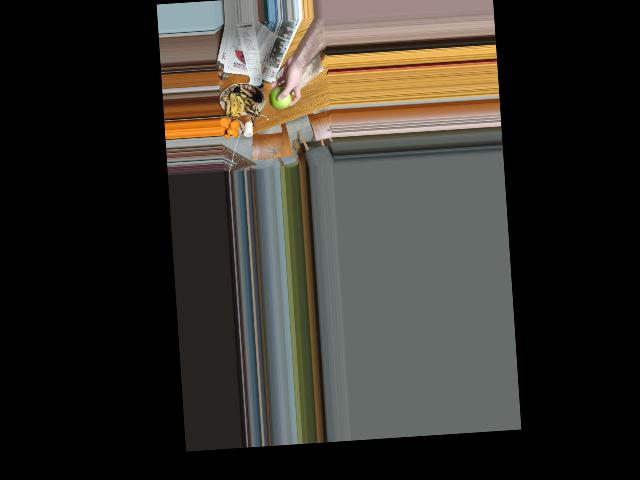apple: (268, 84, 292, 110)
